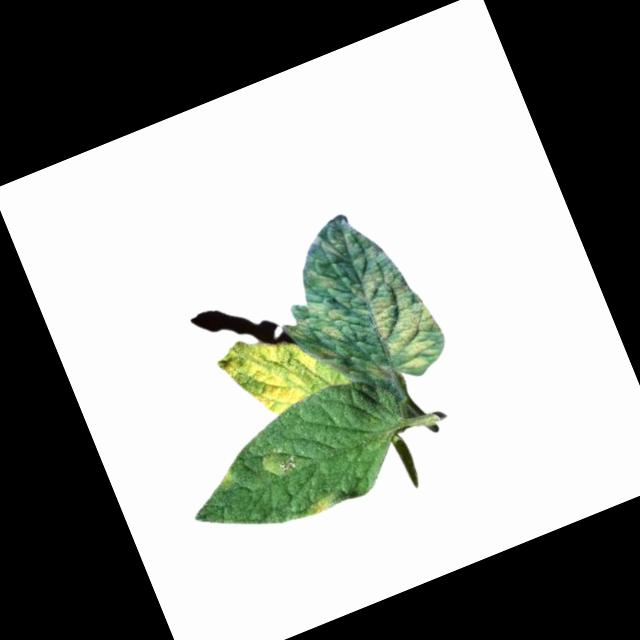Leaf_Mold: (211, 315, 331, 429), (355, 251, 456, 379), (267, 255, 379, 366), (258, 442, 307, 483), (363, 352, 396, 387), (211, 464, 242, 495), (306, 489, 341, 516)
